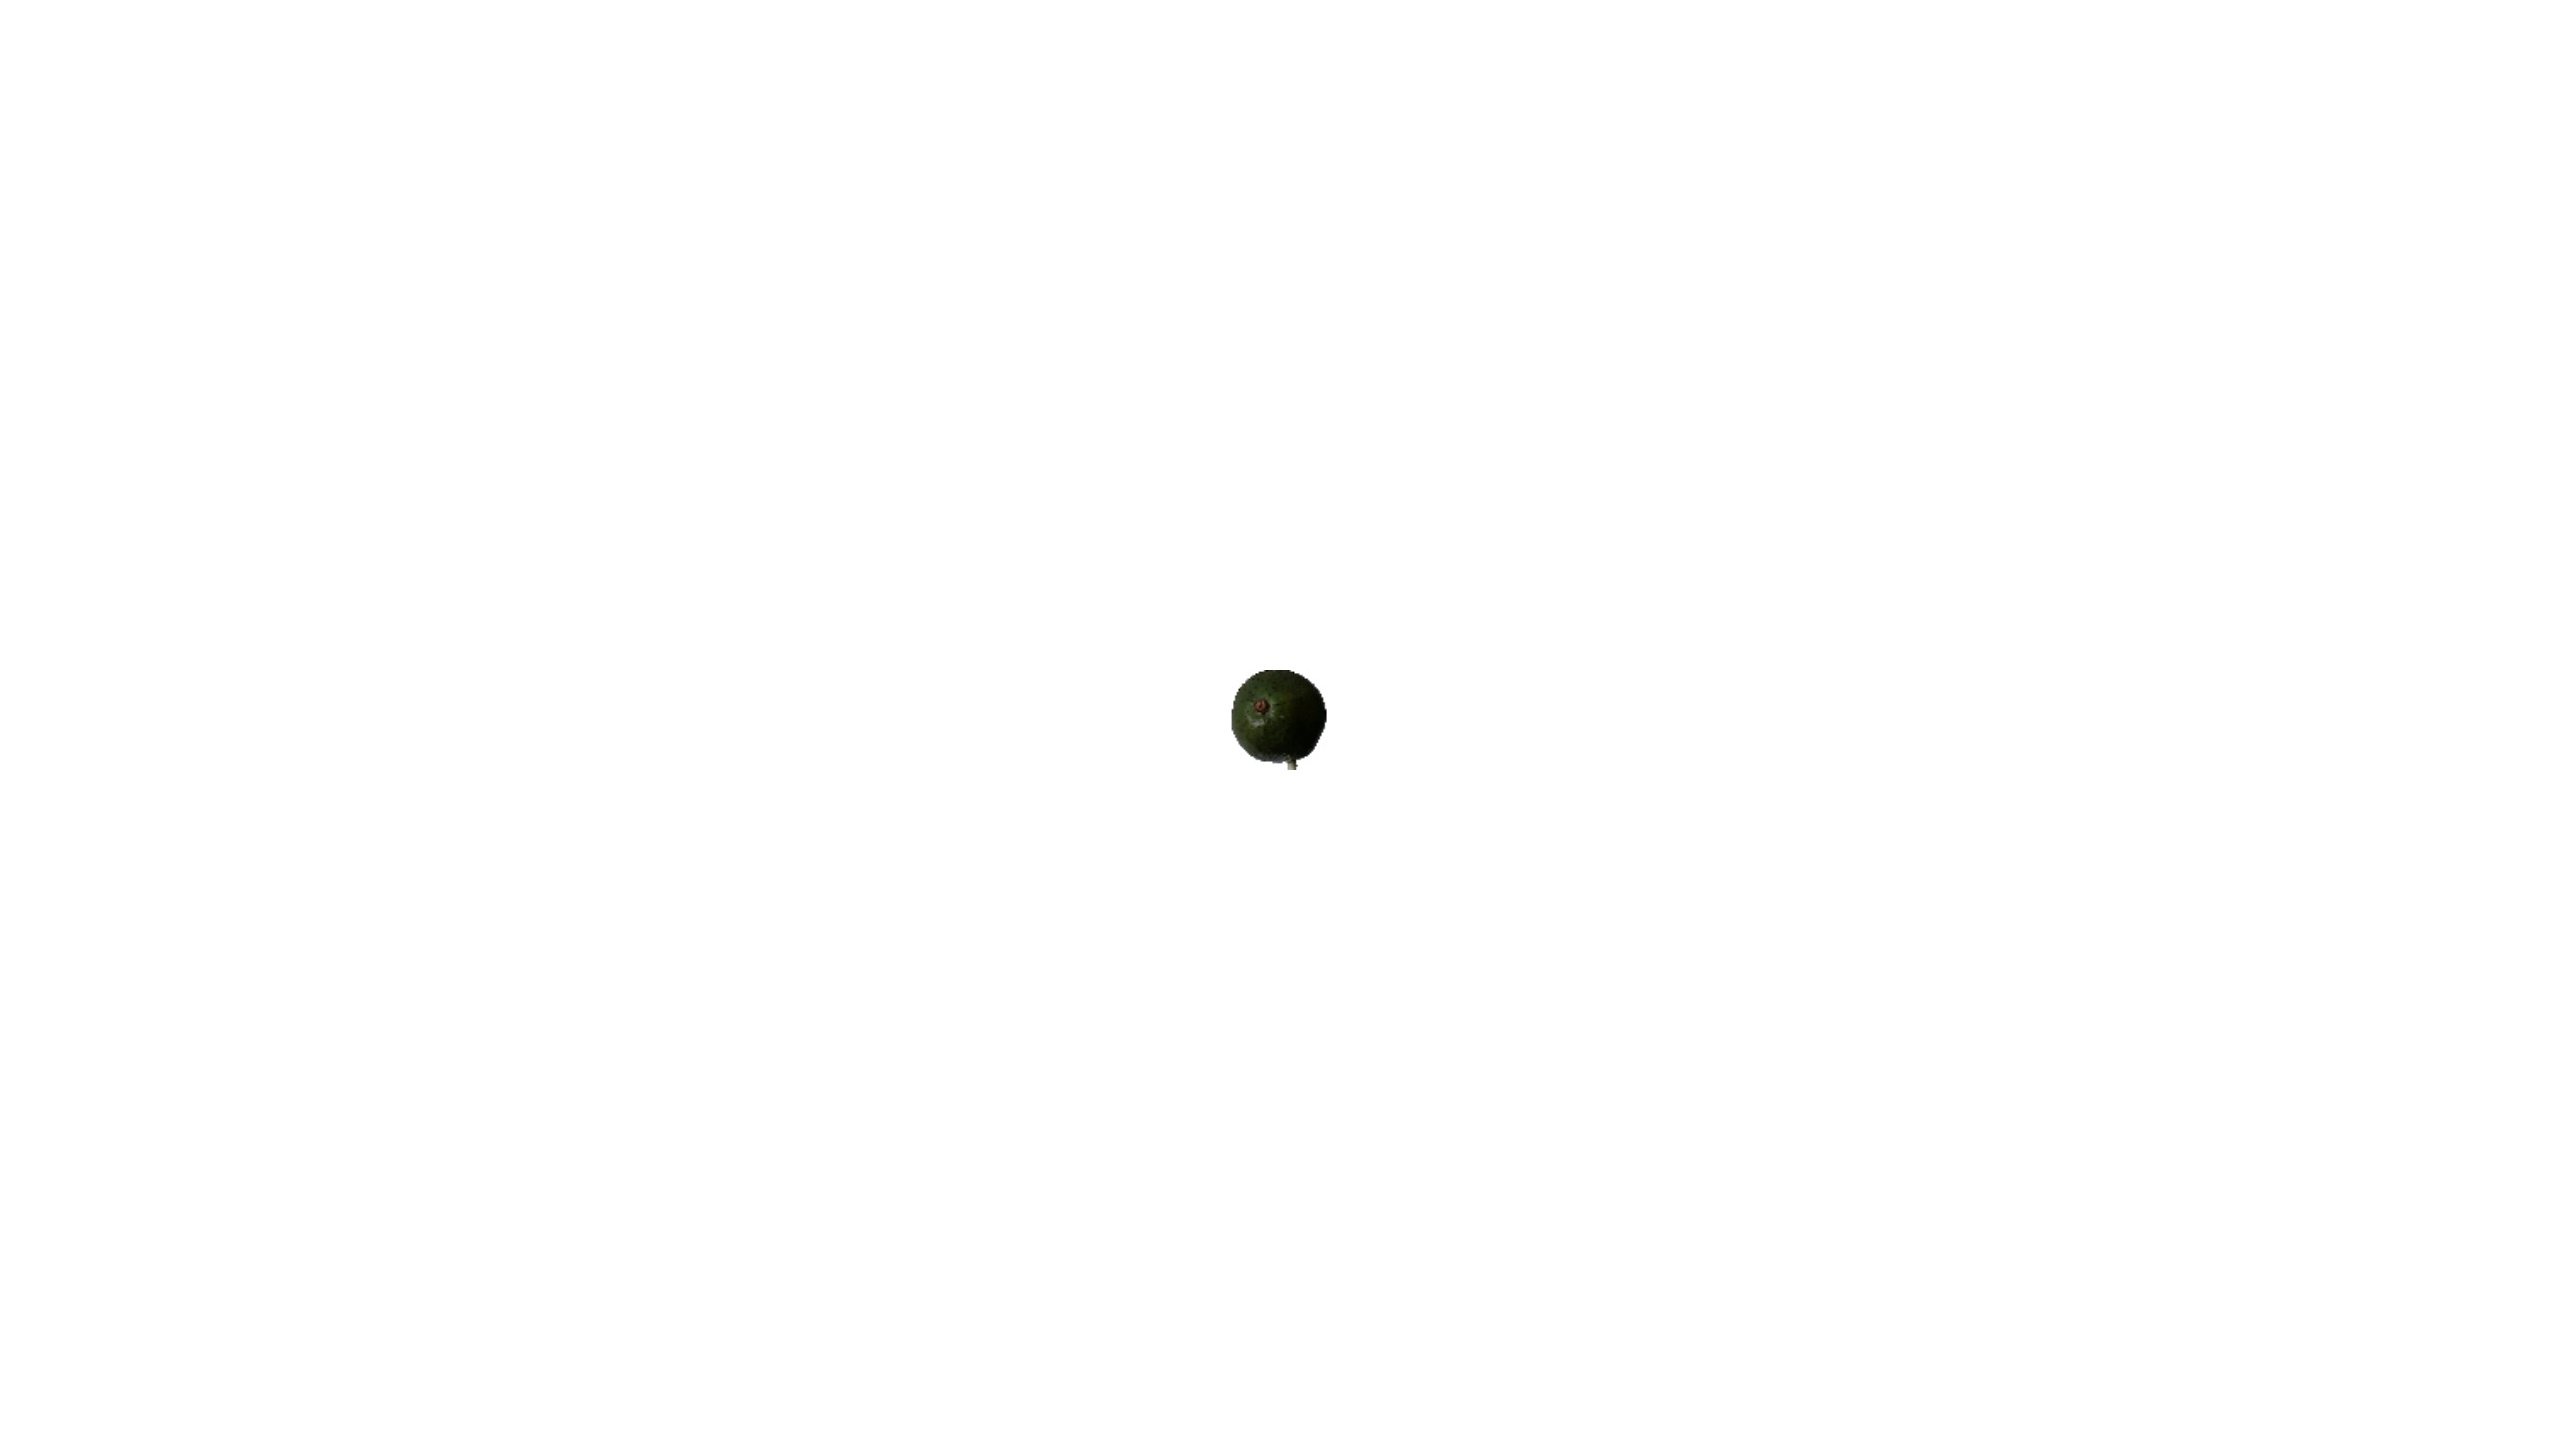abacate: (1218, 665, 1335, 763)
